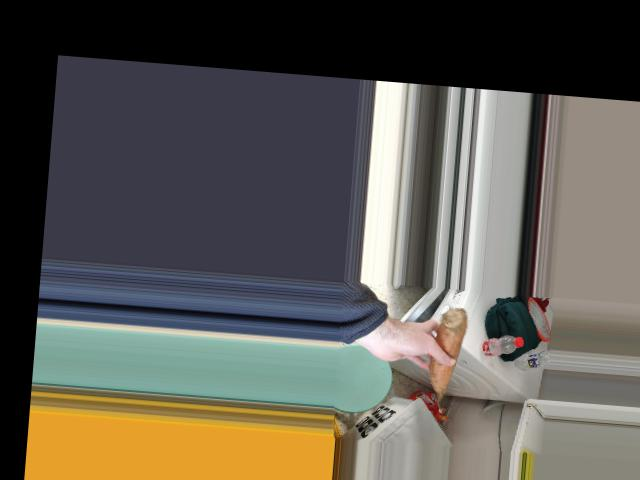sweet_potato: (430, 305, 461, 398)
